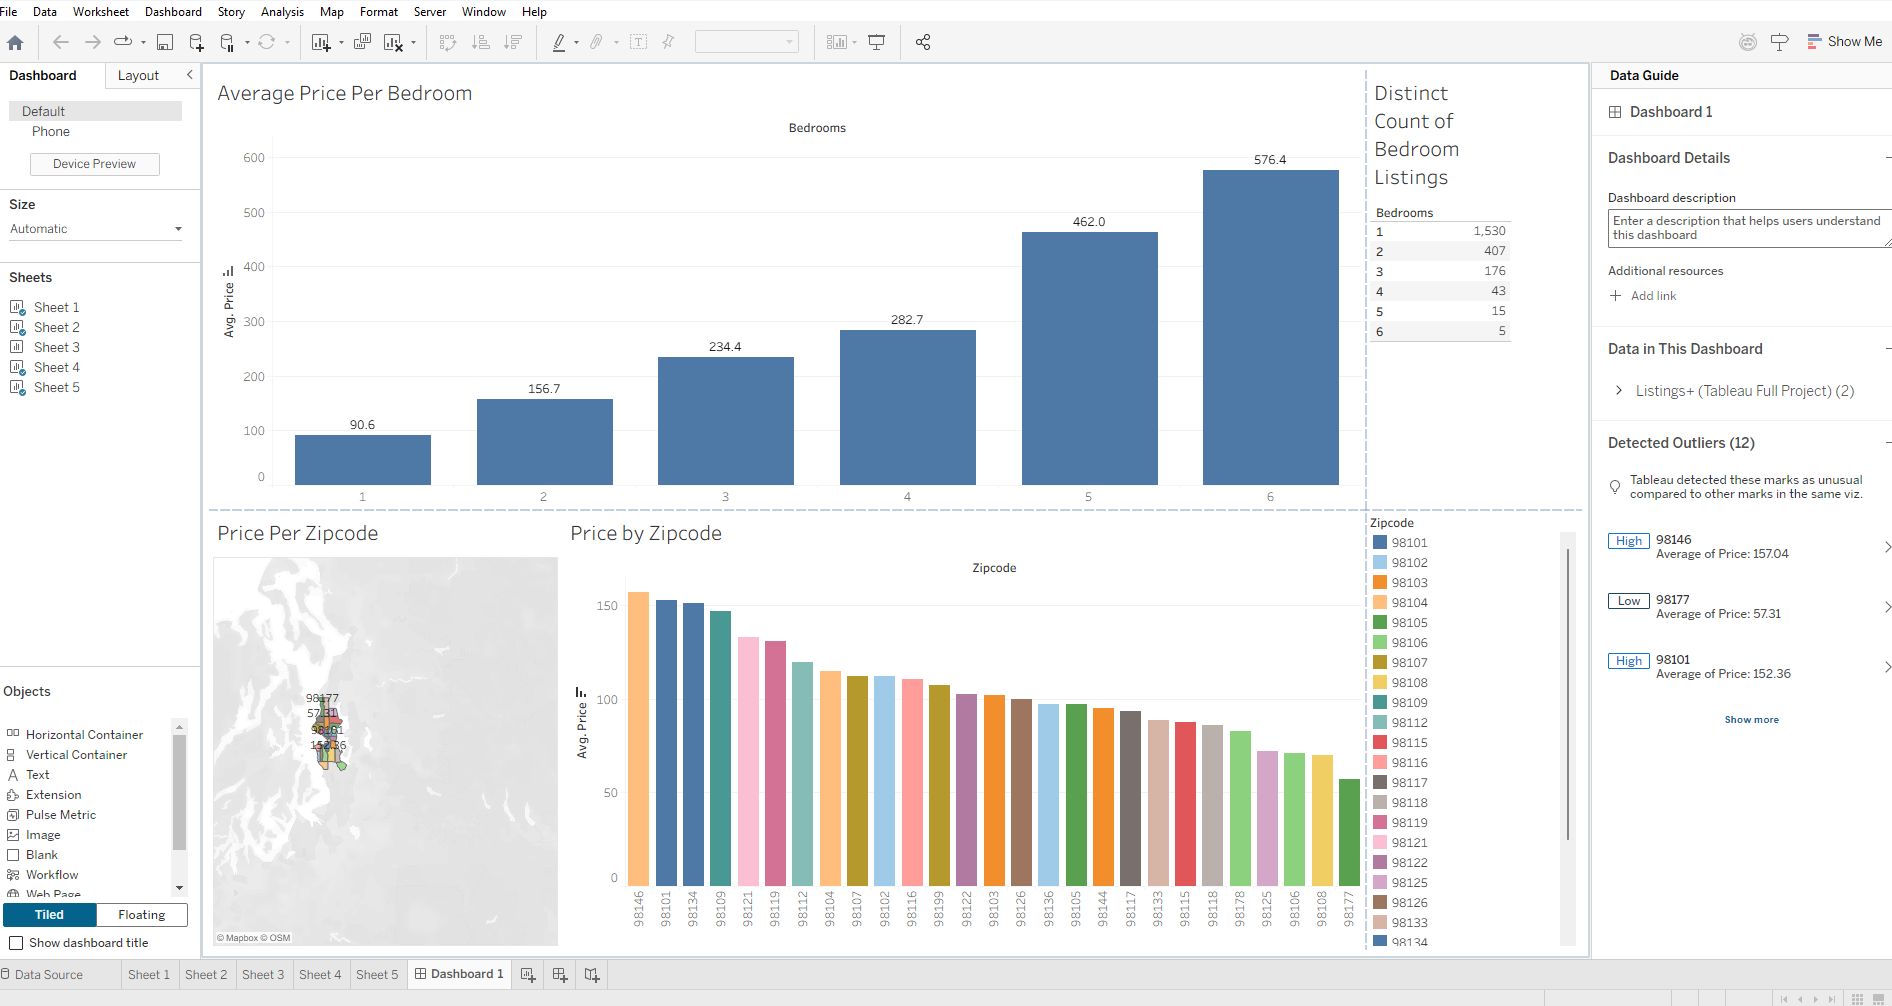

This screenshot's page, from the dashboard's own definition file:
{"tool":"tableau","page":{"name":"Dashboard 1","canvas":[1000,1000],"units":"permille","ordinal":0},"visuals":[{"type":"worksheet","title":"Sheet 4","mark":"Automatic","rows":["price"],"cols":["bedrooms"],"box":[4.7,8.9,835,491.1]},{"type":"worksheet","title":"Sheet 5","mark":"Automatic","rows":["bedrooms"],"box":[839.7,8.9,155.7,491.1]},{"type":"worksheet","title":"Sheet 2","mark":"Multipolygon","box":[4.7,500,254.4,491.1]},{"type":"worksheet","title":"Sheet 1","mark":"Automatic","rows":["price"],"cols":["zipcode"],"box":[259.1,500,580.6,491.1]},{"type":"legend","title":"Sheet 1","param":"[federated.0024bx51st1fix1ao045e1bwdnsd].[none:zipcode:ok]","box":[839.7,500,155.6,491.1]}]}

Visuals, with their boxes on the dashboard's canvas, which has no fixed pixel size, in thousandths of its width and height (x1, y1, x2, y2). These are canvas units, not pixel positions in the 1892x1006 screenshot, which may show the page scaled, cropped or inside an application window:
"Sheet 4" worksheet: bbox=(5, 9, 840, 500)
"Sheet 5" worksheet: bbox=(840, 9, 995, 500)
"Sheet 2" worksheet (Multipolygon marks): bbox=(5, 500, 259, 991)
"Sheet 1" worksheet: bbox=(259, 500, 840, 991)
"Sheet 1" legend: bbox=(840, 500, 995, 991)
